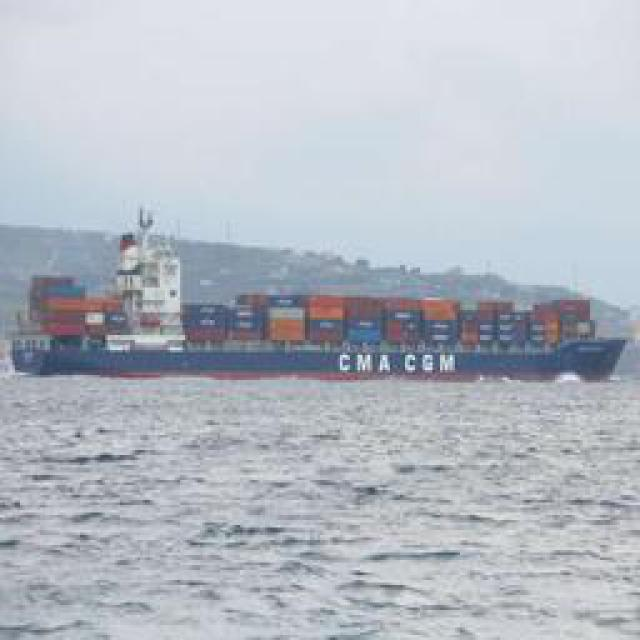Ship: (10, 222, 633, 392)
